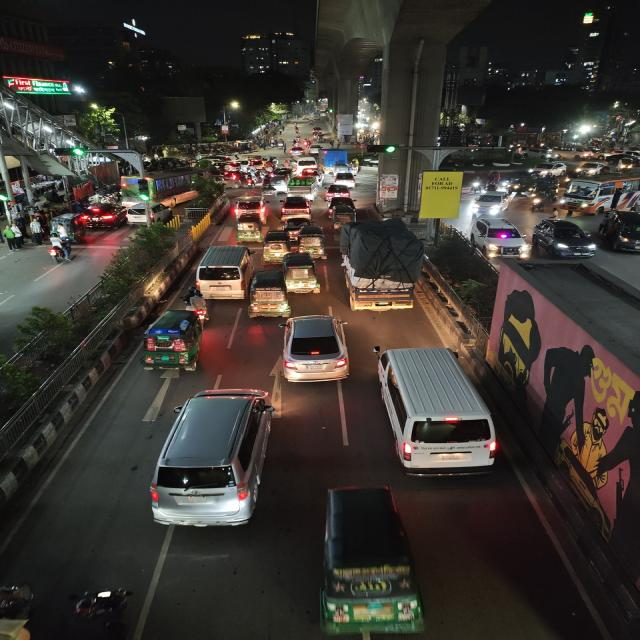bus: (124, 167, 204, 207), (558, 177, 634, 212)
car: (148, 386, 277, 535), (373, 344, 501, 480), (277, 311, 354, 387), (192, 244, 253, 298), (531, 217, 598, 260), (469, 215, 528, 259), (598, 209, 640, 256), (124, 200, 174, 228), (82, 201, 125, 229), (471, 191, 512, 217), (277, 195, 315, 217), (231, 195, 267, 217), (323, 183, 355, 199), (530, 162, 566, 176), (328, 172, 359, 187), (576, 161, 605, 177), (296, 157, 319, 173)
cng: (314, 484, 432, 640), (134, 307, 207, 377), (281, 253, 322, 295), (296, 224, 328, 260), (260, 231, 290, 261), (234, 213, 262, 241), (330, 204, 356, 230), (508, 173, 535, 197), (362, 151, 381, 167)
motorcycle: (184, 287, 211, 323), (44, 235, 74, 265), (527, 190, 548, 212)
pedestrian: (4, 223, 24, 252), (27, 217, 46, 245)
pickup_van: (337, 241, 433, 314), (280, 177, 323, 198)
rickshaw: (248, 268, 289, 320), (296, 225, 328, 259)
truck: (320, 148, 352, 175)
